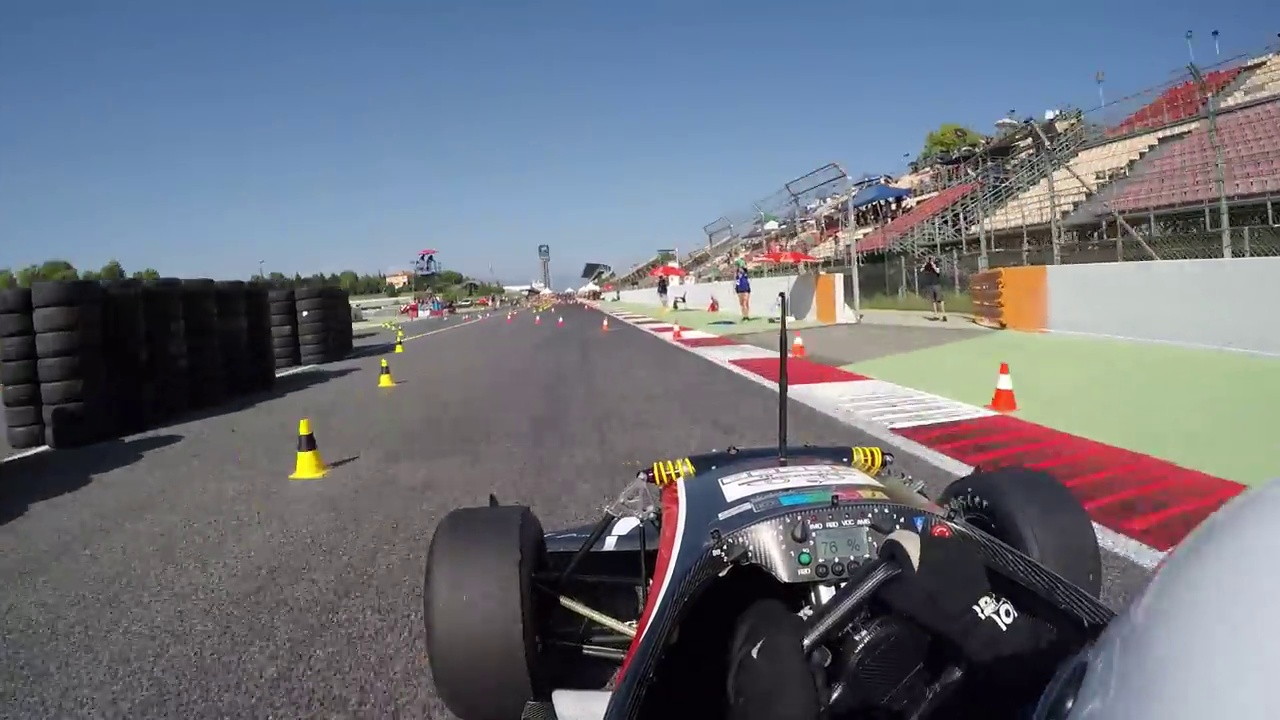Cone: (288, 417, 327, 481), (986, 362, 1020, 414), (377, 357, 398, 391)
